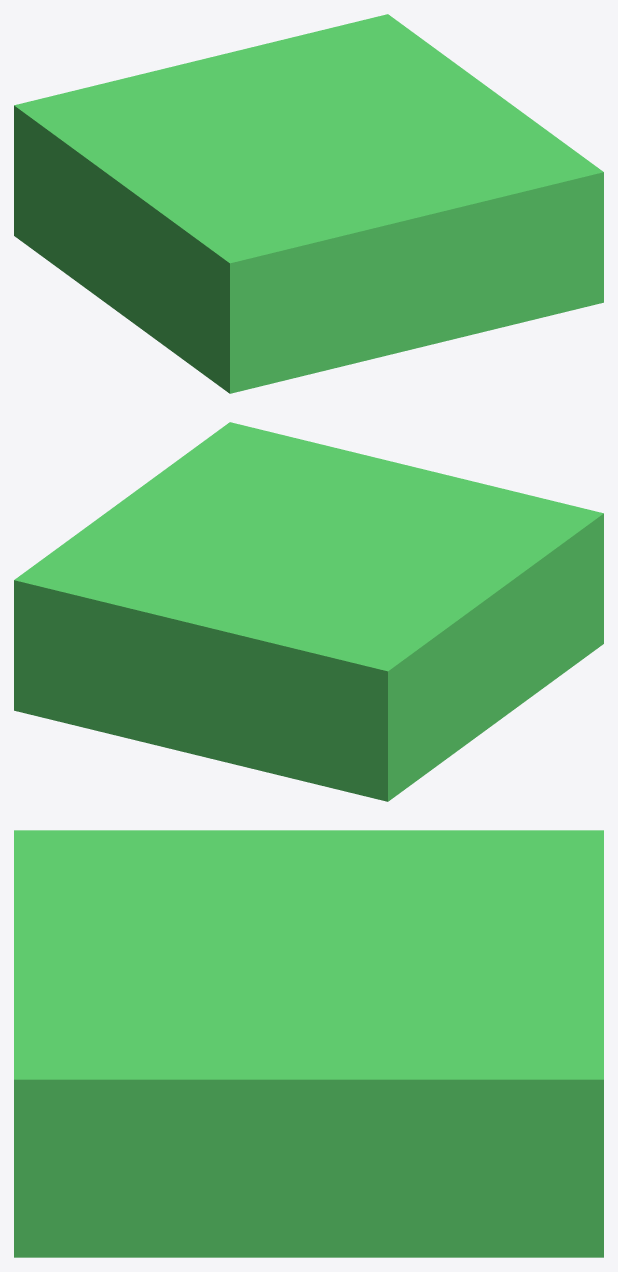
The model's file is Land_B.fbx.
3 renders of one model, top to bottom at view 1: azimuth 30°, elevation 25°; view 2: azimuth 150°, elevation 25°; view 3: azimuth 270°, elevation 25°, orthographic. The views are drawn at different scales.
Visible parts, largest first — view 1: Land_B; view 2: Land_B; view 3: Land_B.
Boxes of the visible parts, x1,y1,x2,y2 form: Land_B: (14, 14, 603, 393); Land_B: (14, 422, 603, 801); Land_B: (14, 830, 603, 1257).
Bounding box in the file's own units: 600 × 200 × 600.
